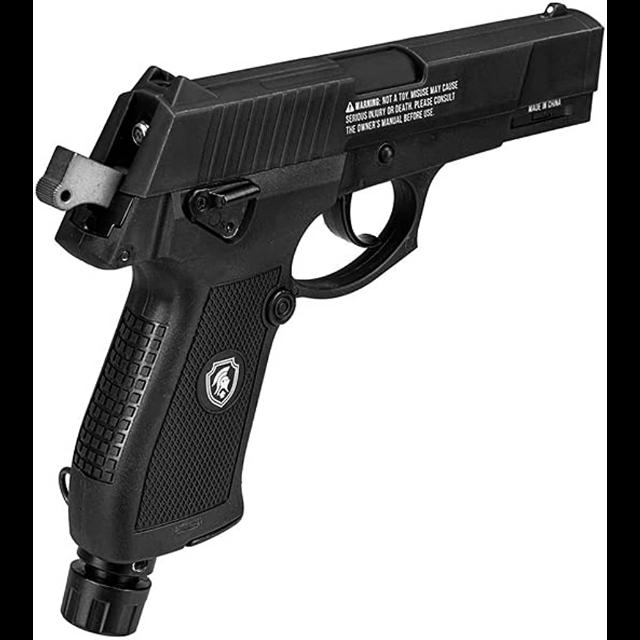handgun: (35, 0, 607, 568)
